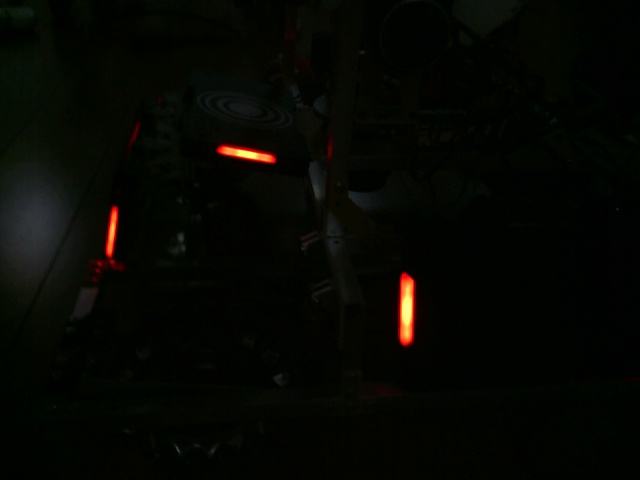lamp: (397, 271, 420, 347), (103, 204, 119, 260)
